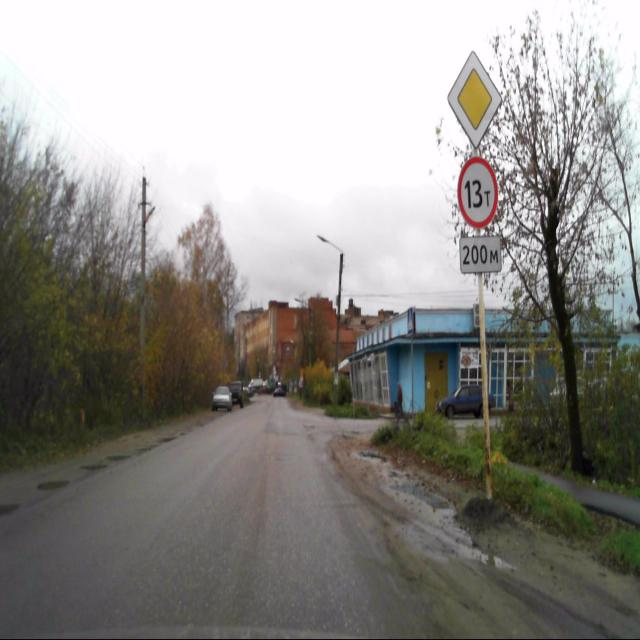road sign: (447, 49, 502, 149)
